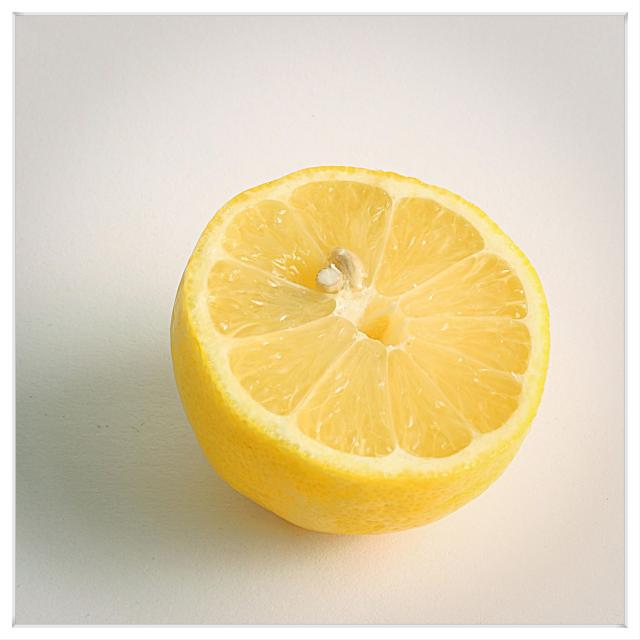lemon: (165, 162, 556, 542)
